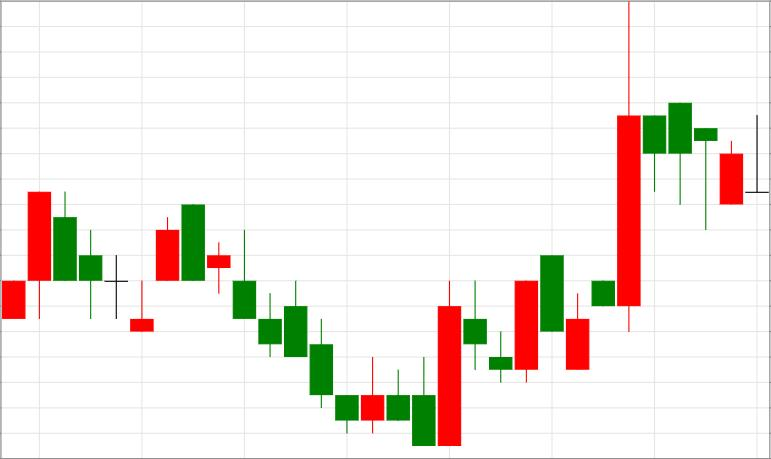bullish_engulfing_rise: (233, 229, 461, 446)
